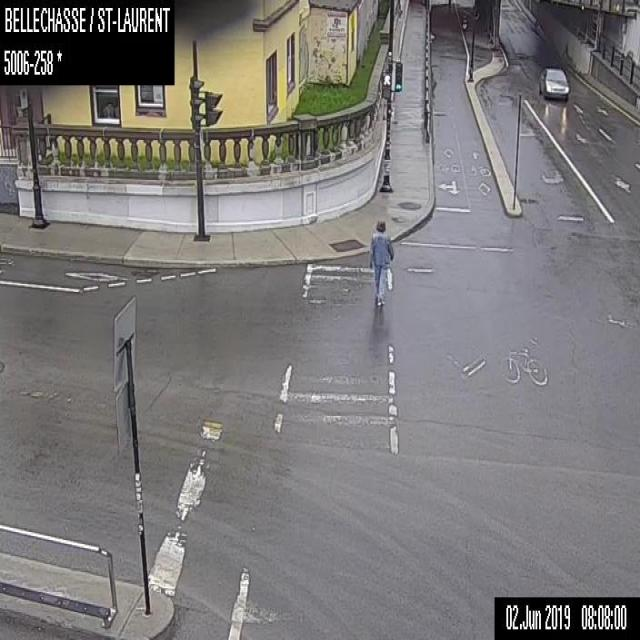pedestrian: (368, 220, 394, 308)
vehicle: (538, 68, 569, 100)
